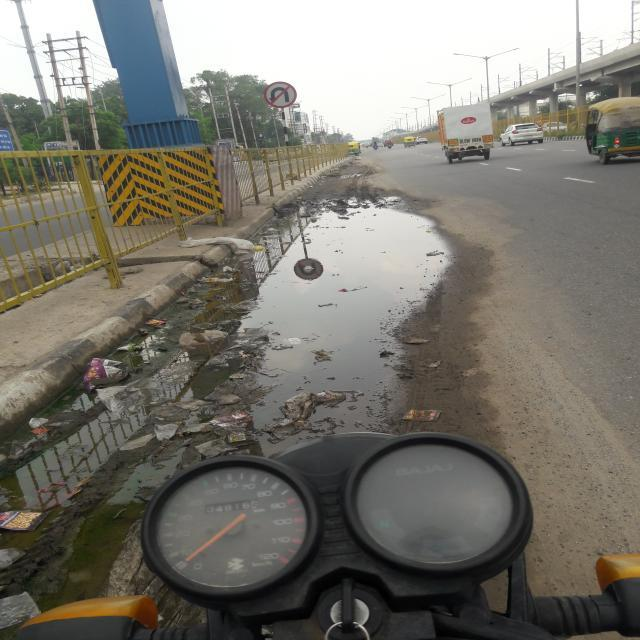u turn prohibited: (263, 81, 300, 108)
